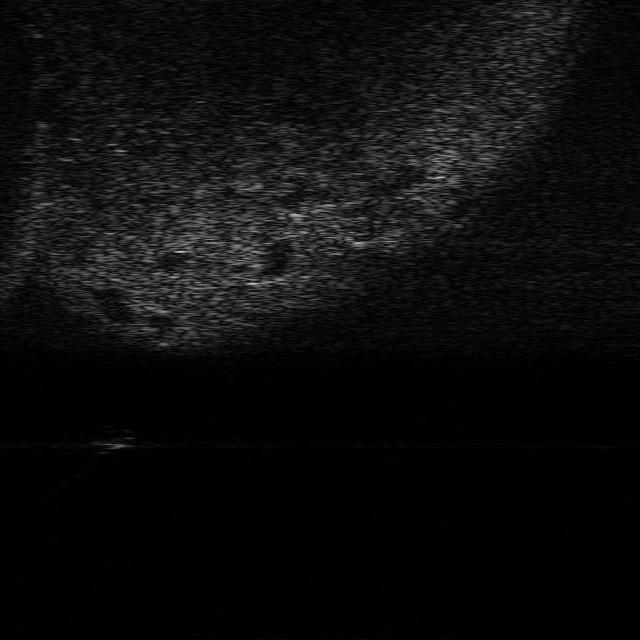cube: (90, 429, 135, 454)
